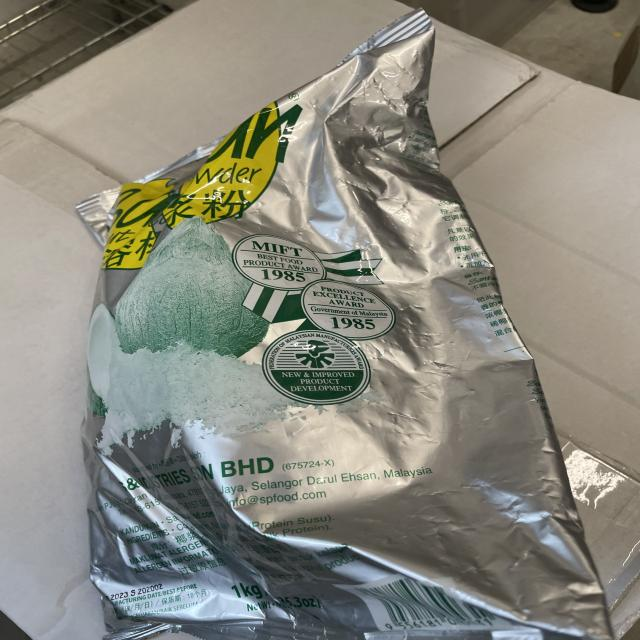object_name: (72, 63, 560, 640)
